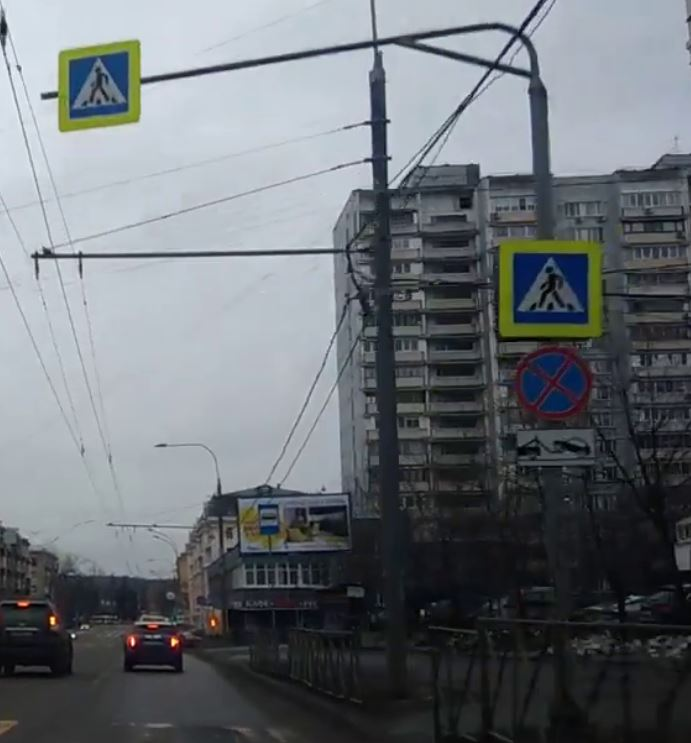Yaya Gecidi: (513, 247, 589, 325), (66, 53, 133, 114)
